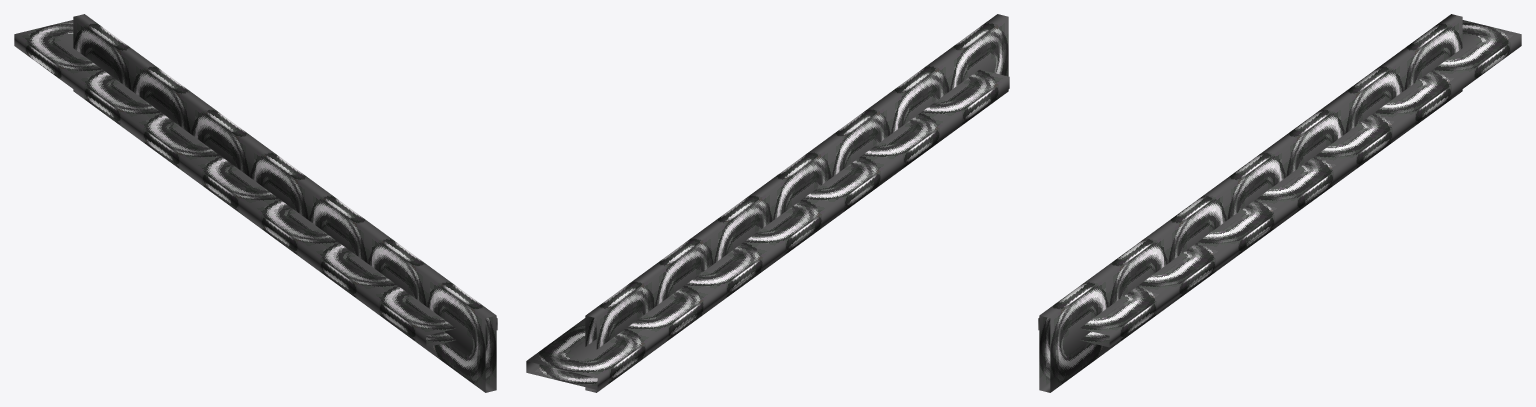
File: INST_SWORDLIGHT_CHAINC1M.fbx
3 renders of one model, left to right at view 1: azimuth 30°, elevation 25°; view 2: azimuth 150°, elevation 25°; view 3: azimuth 330°, elevation 25°, orthographic.
Parts seen in each view (by area): view 1: INST_SWORDLIGHT_CHAINC1M; view 2: INST_SWORDLIGHT_CHAINC1M; view 3: INST_SWORDLIGHT_CHAINC1M.
Part boxes in pixels (x1,y1,x2,y2): INST_SWORDLIGHT_CHAINC1M: (14, 14, 497, 392); INST_SWORDLIGHT_CHAINC1M: (526, 14, 1009, 392); INST_SWORDLIGHT_CHAINC1M: (1038, 14, 1521, 392).
Size of the model in its own units: 1000 by 1000 by 10706.
Materials: 1 (1 with a texture image).
